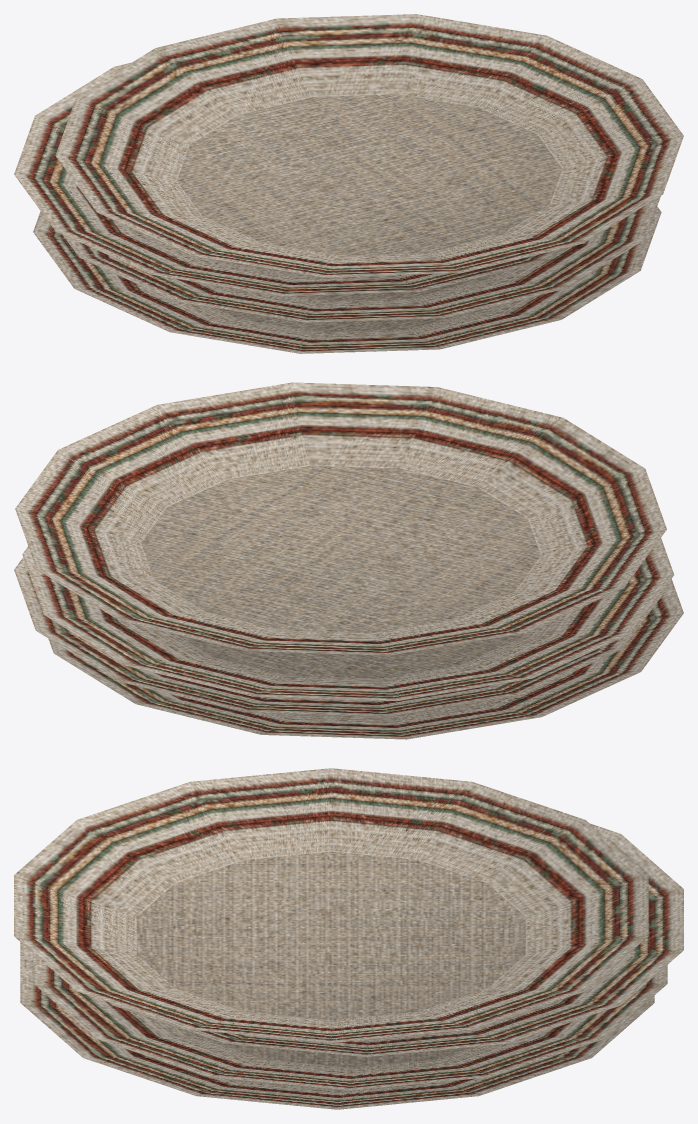
File: mm9_deco_platestack2set1.glb
3 views of the same model, one above another, from view 1: azimuth 30°, elevation 25°; view 2: azimuth 150°, elevation 25°; view 3: azimuth 270°, elevation 25° (orthographic). The views are drawn at different scales.
Visible parts, largest first — view 1: Platestack2set1; view 2: Platestack2set1; view 3: Platestack2set1.
Part boxes in pixels (<box>): Platestack2set1: <box>14,14,683,353</box>; Platestack2set1: <box>14,382,683,739</box>; Platestack2set1: <box>14,768,683,1109</box>.
Bounding box in the file's own units: 0.5223 × 0.0926 × 0.5148.
Materials: 1 (1 with a texture image).
